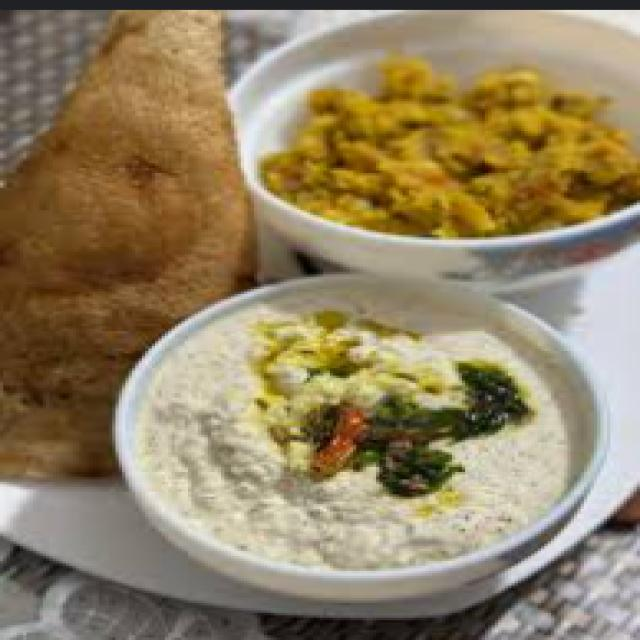coconut chutney: (162, 297, 568, 545)
